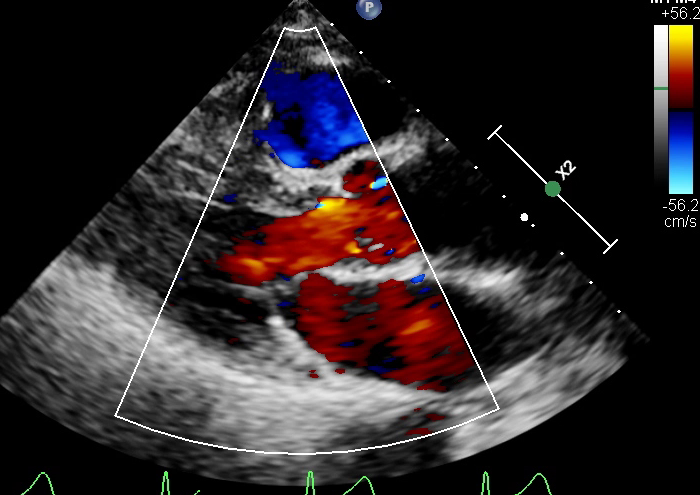AR: (318, 188, 384, 256)
